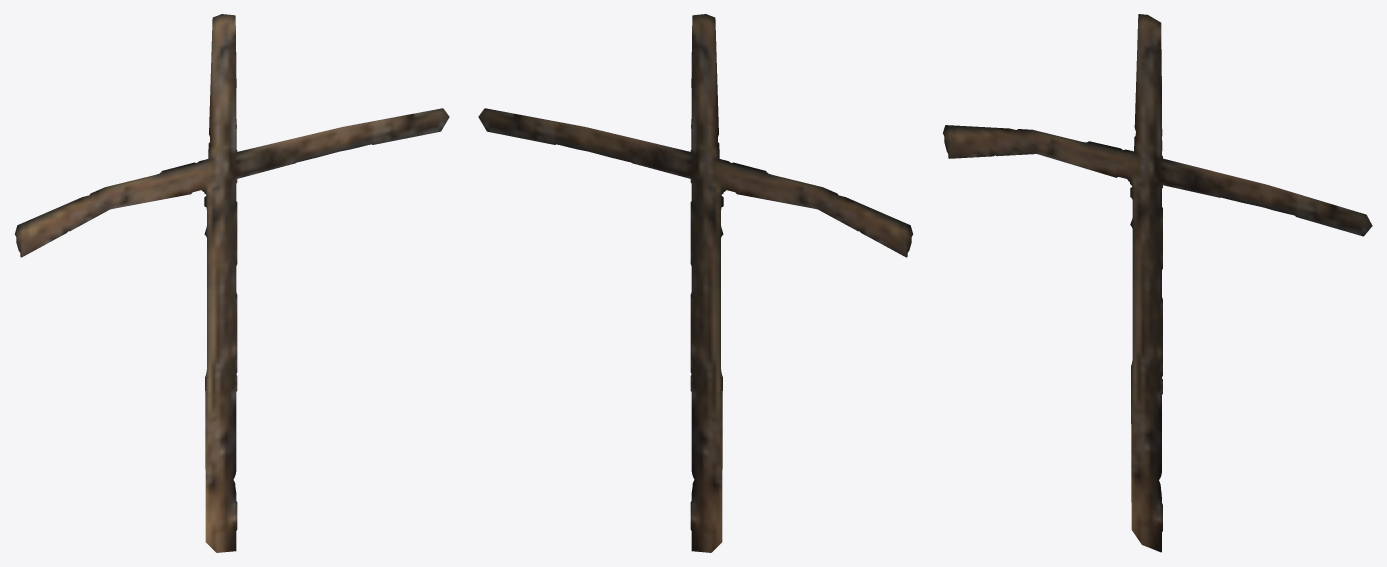
File: swamp_cross_2.FBX
3 views of the same model, side by side, from view 1: azimuth 30°, elevation 25°; view 2: azimuth 150°, elevation 25°; view 3: azimuth 330°, elevation 25° (orthographic).
Visible parts, largest first — view 1: swamp_cross_2; view 2: swamp_cross_2; view 3: swamp_cross_2.
Part boxes in pixels (left/top/right/bottom): swamp_cross_2: left=14, top=14, right=449, bottom=552; swamp_cross_2: left=478, top=14, right=913, bottom=552; swamp_cross_2: left=943, top=14, right=1372, bottom=552.
Bounding box in the file's own units: 58.16 × 69.06 × 0.1072.
